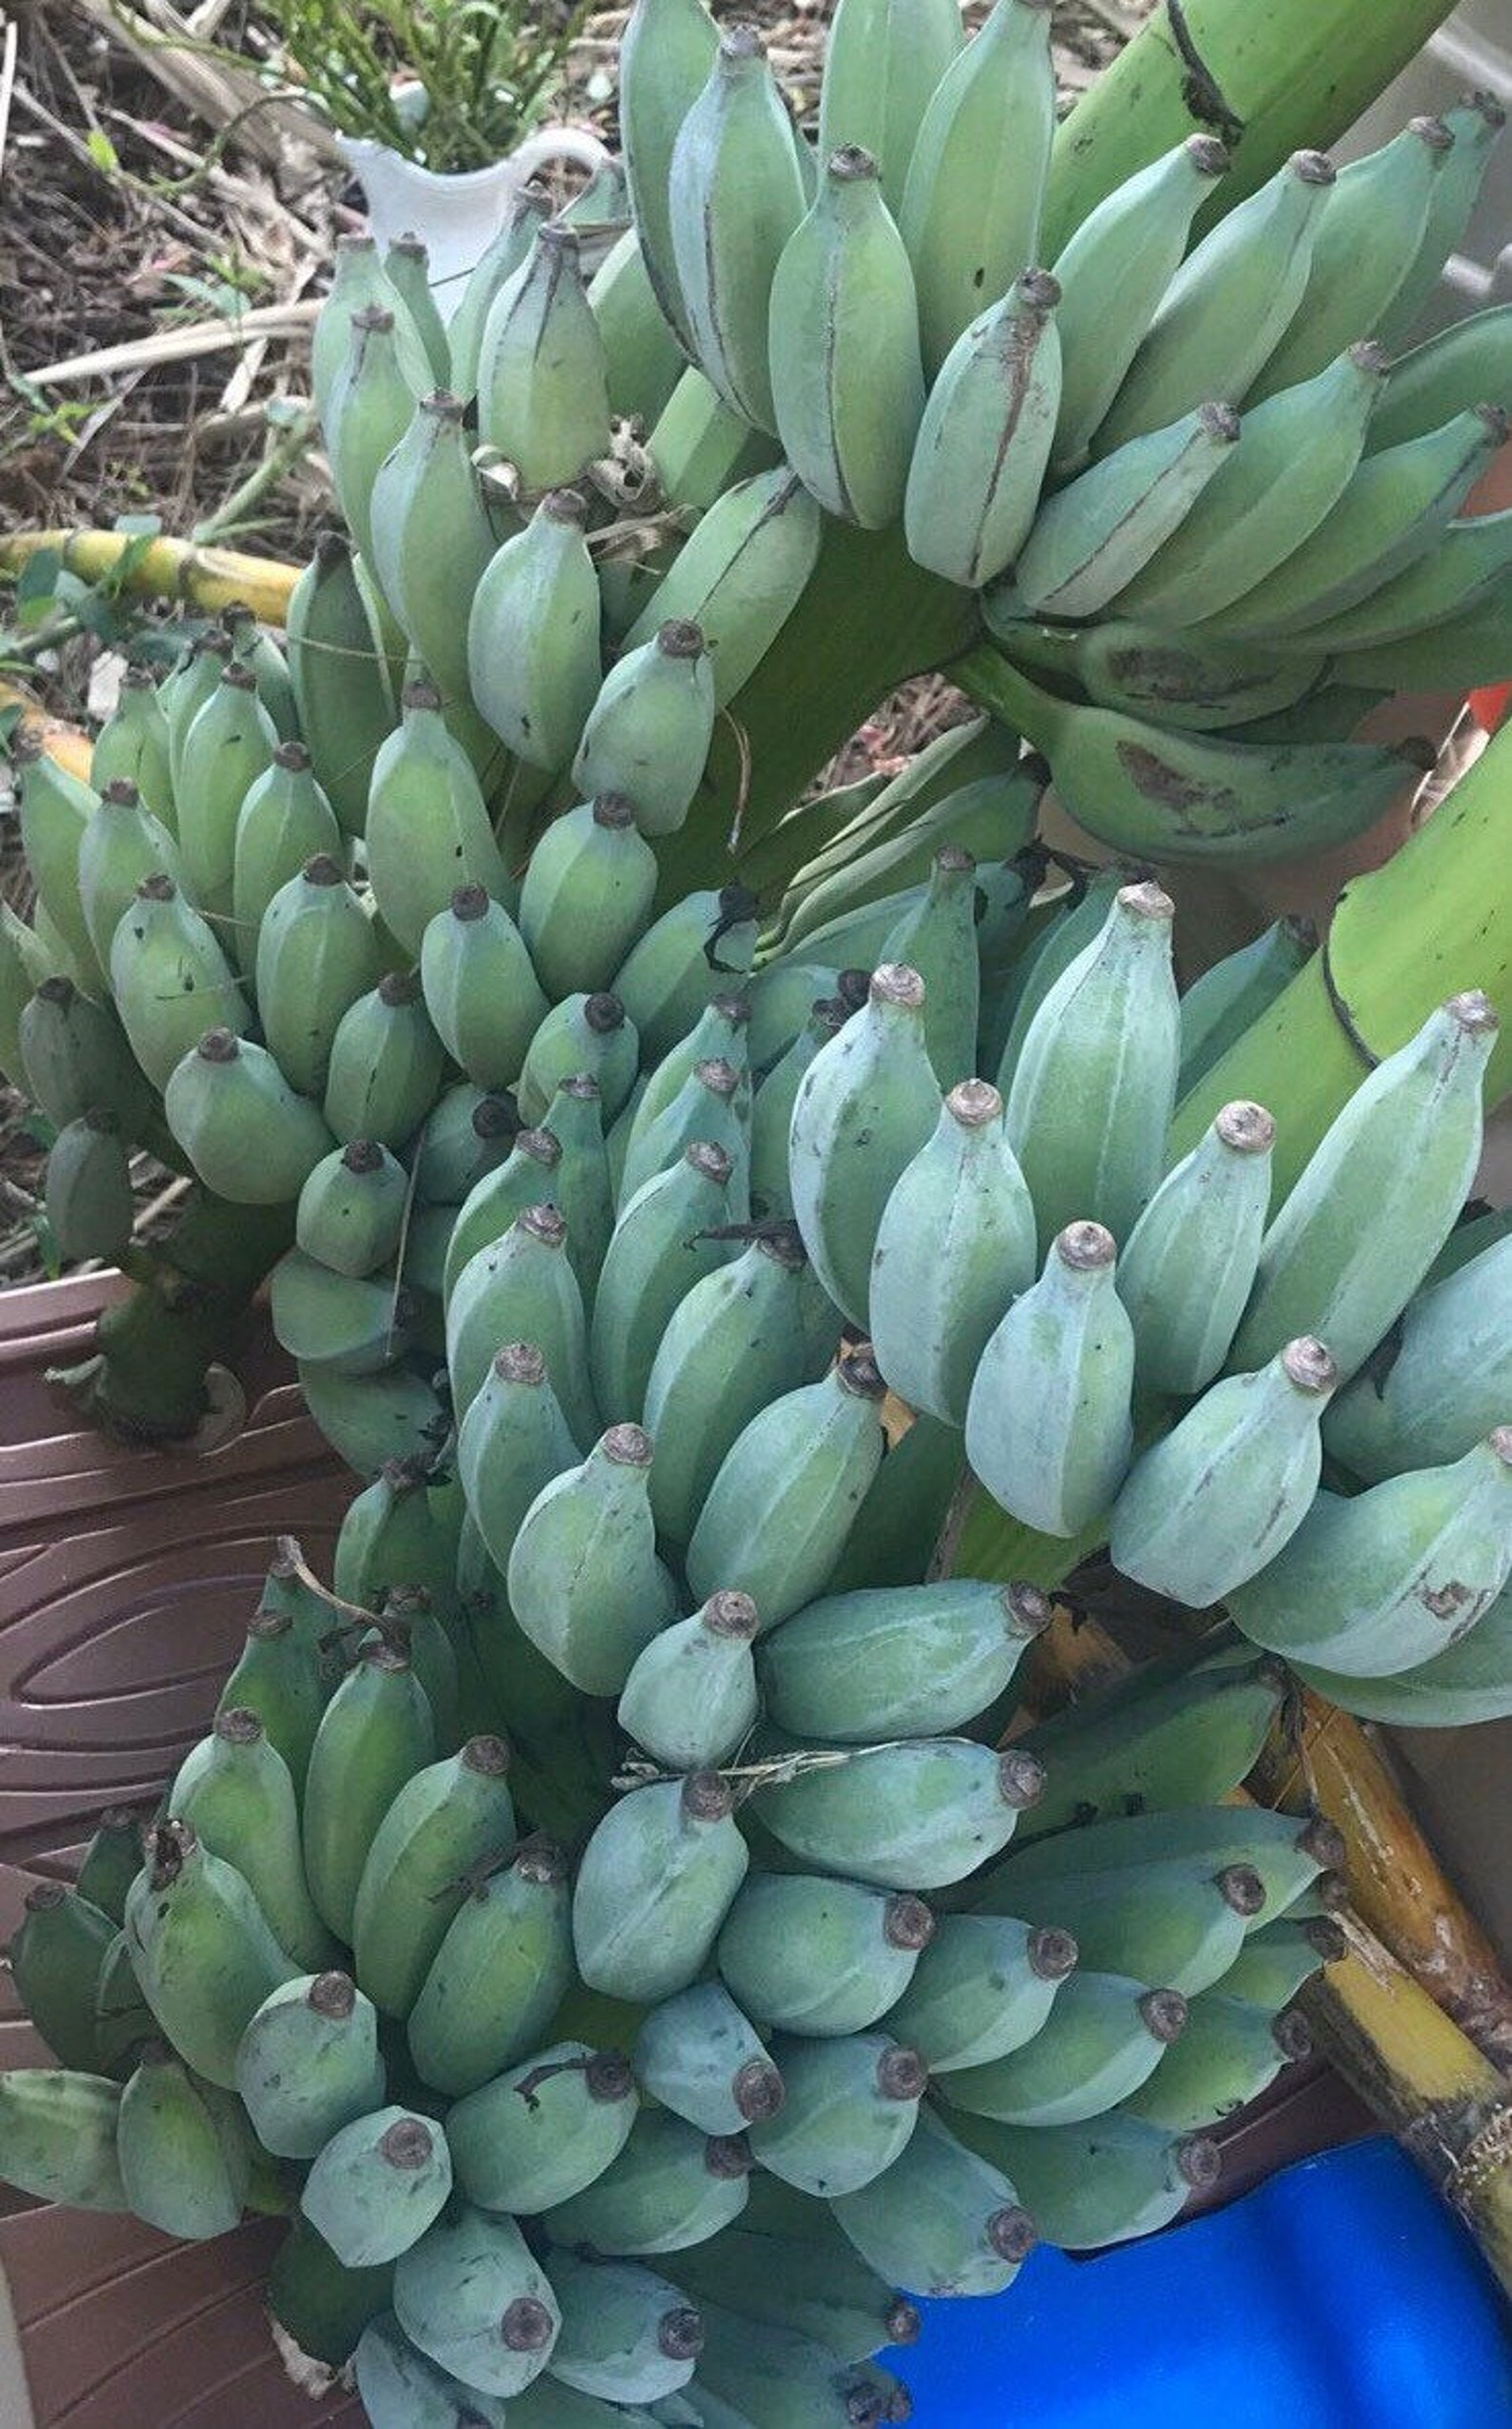looks_good: (181, 141, 1263, 2116)
